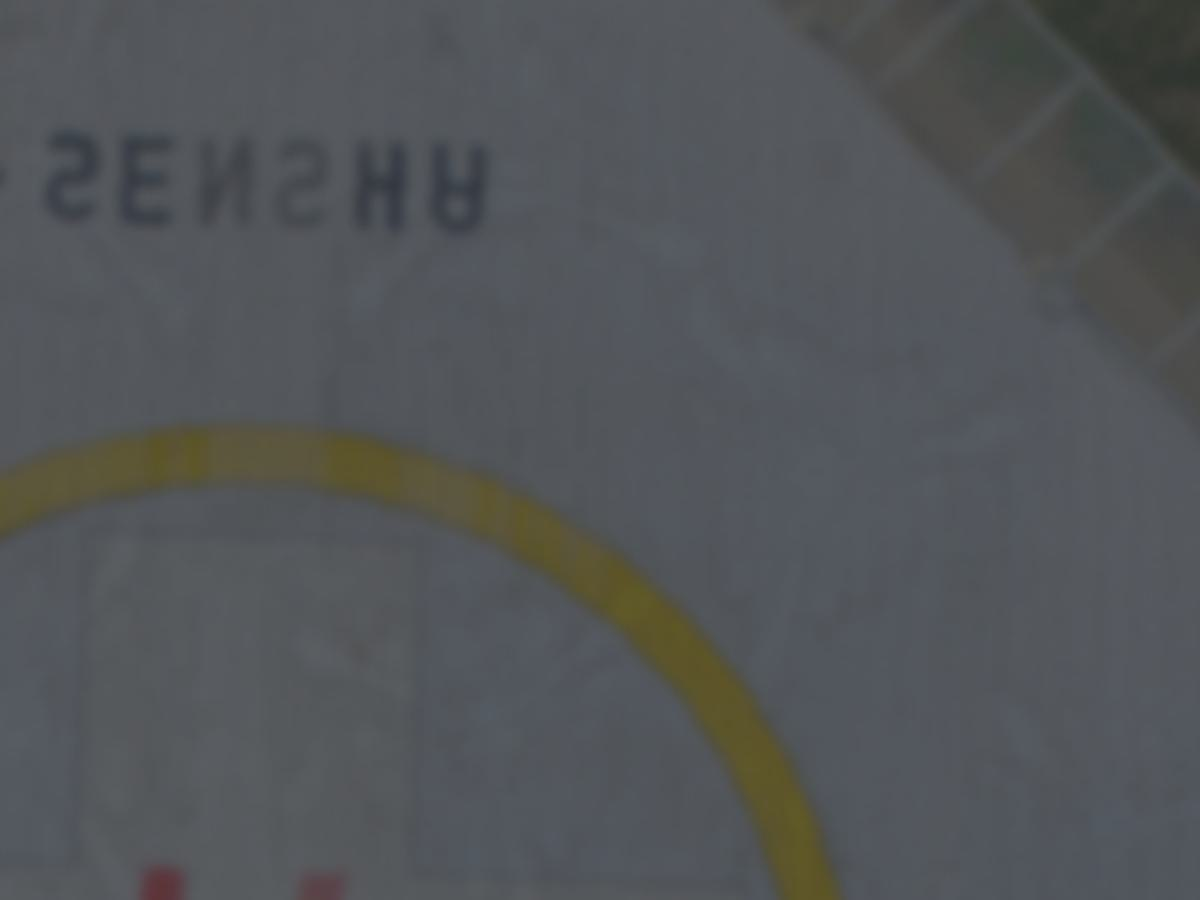Apron: (5, 417, 850, 900)
